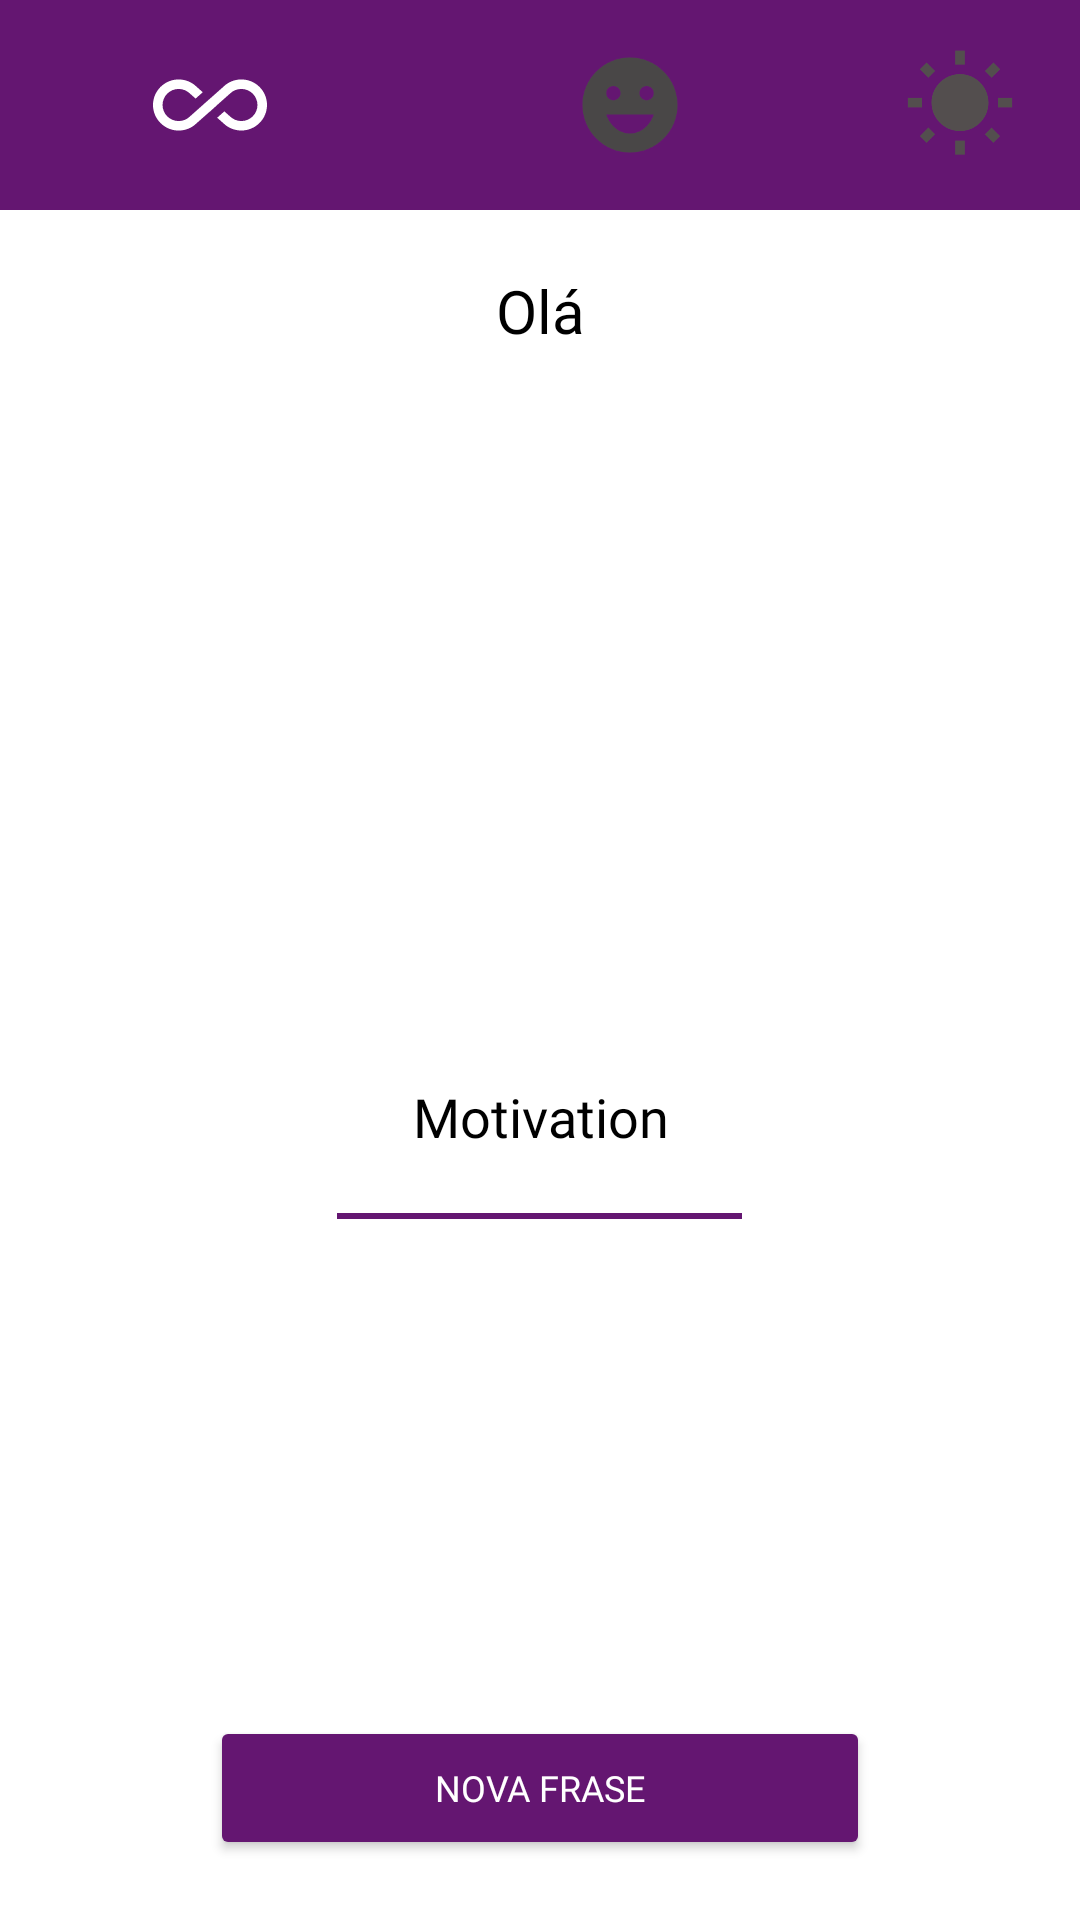

Where icons sit on this 1080px x 1920px app screen, as (x1, y1, x2, y2):
all inclusive: (153, 79, 267, 131)
emoji emotions: (582, 57, 678, 153)
sunny: (908, 51, 1012, 155)
